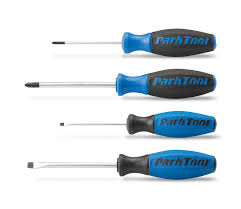Screwdriver: (10, 138, 220, 184), (21, 68, 226, 103), (33, 21, 218, 58), (42, 105, 221, 140)
